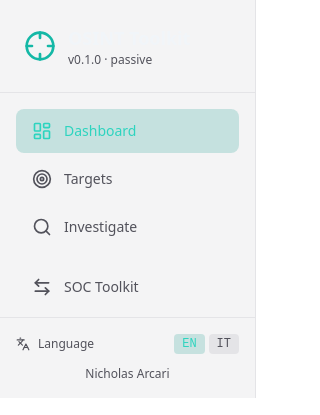
Scenario: Sidebar - i18n language toggle › switches nav labels from English to Italian when IT is clicked
Expected: the text "Targets" is shown, [64,169,112,189]
Expected: the text "Investigate" is shown, [64,217,137,237]
Click the button "it" at (224, 344), box [209,334,239,354]
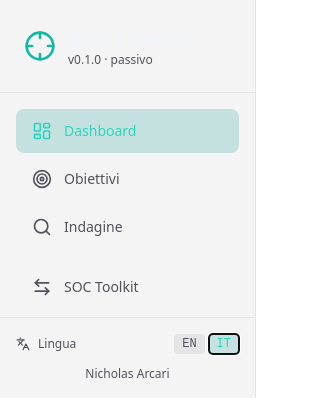
Expected: the text "Obiettivi" is shown, [64,169,120,189]
Expected: the text "Indagine" is shown, [64,217,123,237]
